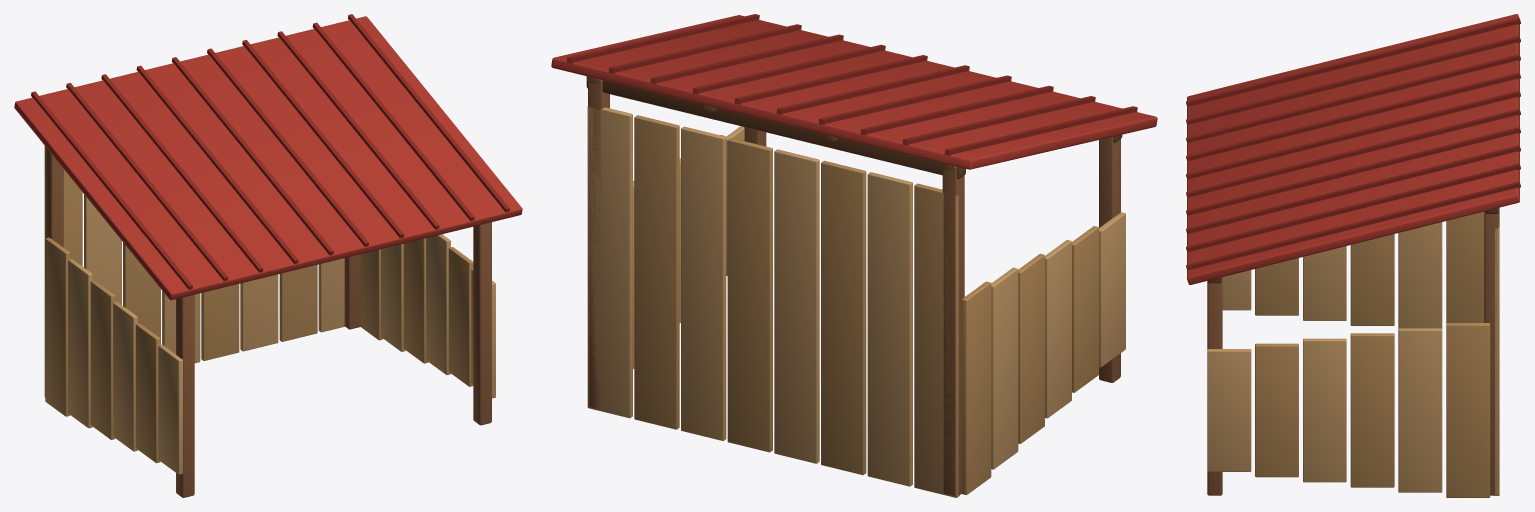
Rendered from shed_bay.glb.
3 renders of one model, left to right at view 1: azimuth 30°, elevation 25°; view 2: azimuth 150°, elevation 25°; view 3: azimuth 270°, elevation 25°, orthographic. The views are drawn at different scales.
Parts seen in each view (by area): view 1: Roof, Body; view 2: Body, Roof; view 3: Body, Roof.
Boxes of the visible parts, x1,y1,x2,y2 form: Roof: [14, 14, 522, 300]; Body: [44, 146, 495, 497]; Body: [586, 76, 1125, 497]; Roof: [551, 14, 1157, 169]; Body: [1207, 207, 1499, 497]; Roof: [1186, 14, 1520, 284].
Size of the model in its own units: 4.5 by 3.66 by 3.5.
